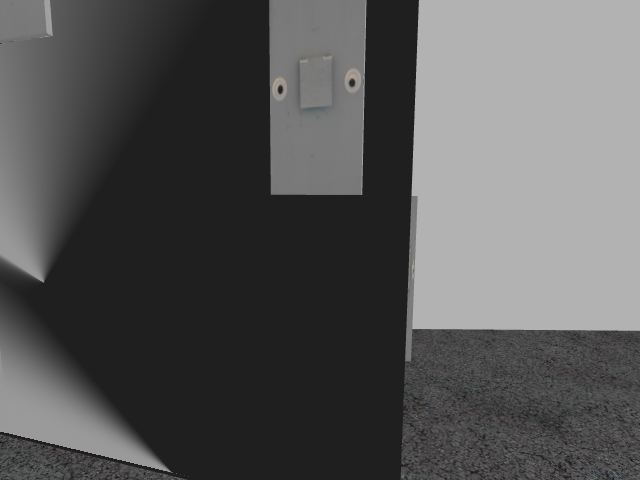facade: (271, 53, 361, 114)
